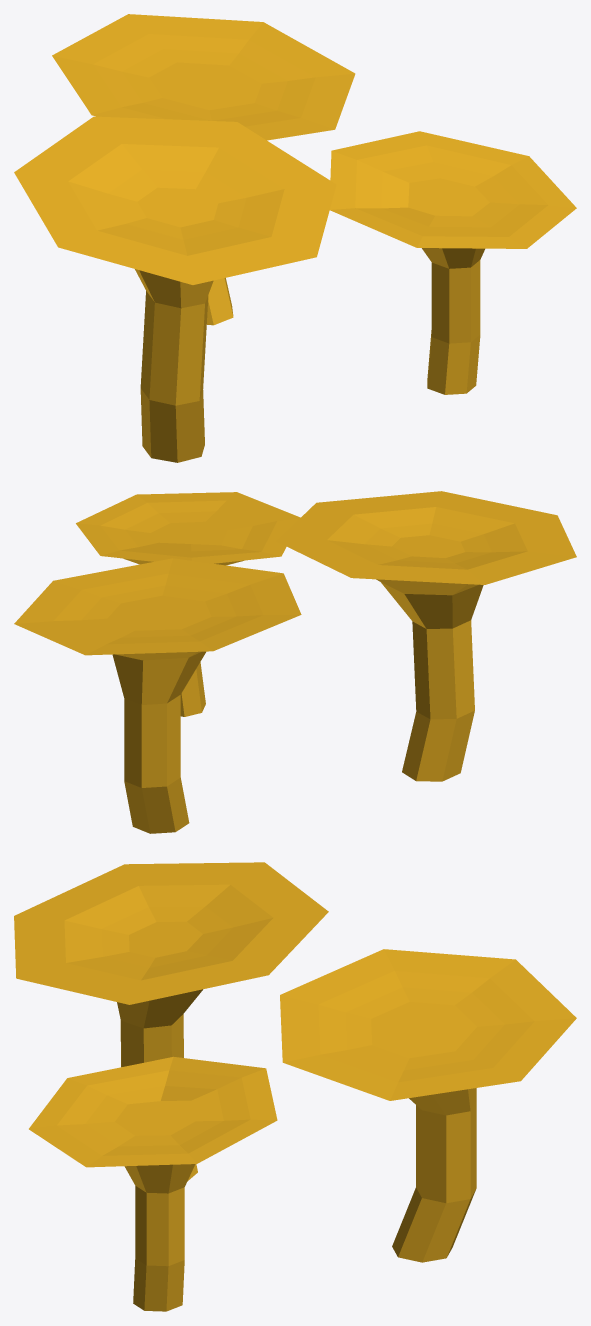
Rendered from mushroom_fox.fbx.
3 renders of one model, top to bottom at view 1: azimuth 30°, elevation 25°; view 2: azimuth 150°, elevation 25°; view 3: azimuth 270°, elevation 25°, orthographic. The views are drawn at different scales.
Parts seen in each view (by area): view 1: Cylinder.001; view 2: Cylinder.001; view 3: Cylinder.001.
Boxes of the visible parts, x1,y1,x2,y2 form: Cylinder.001: [14, 14, 576, 462]; Cylinder.001: [14, 491, 576, 833]; Cylinder.001: [14, 862, 576, 1311].
Size of the model in its own units: 805 by 408 by 793.
